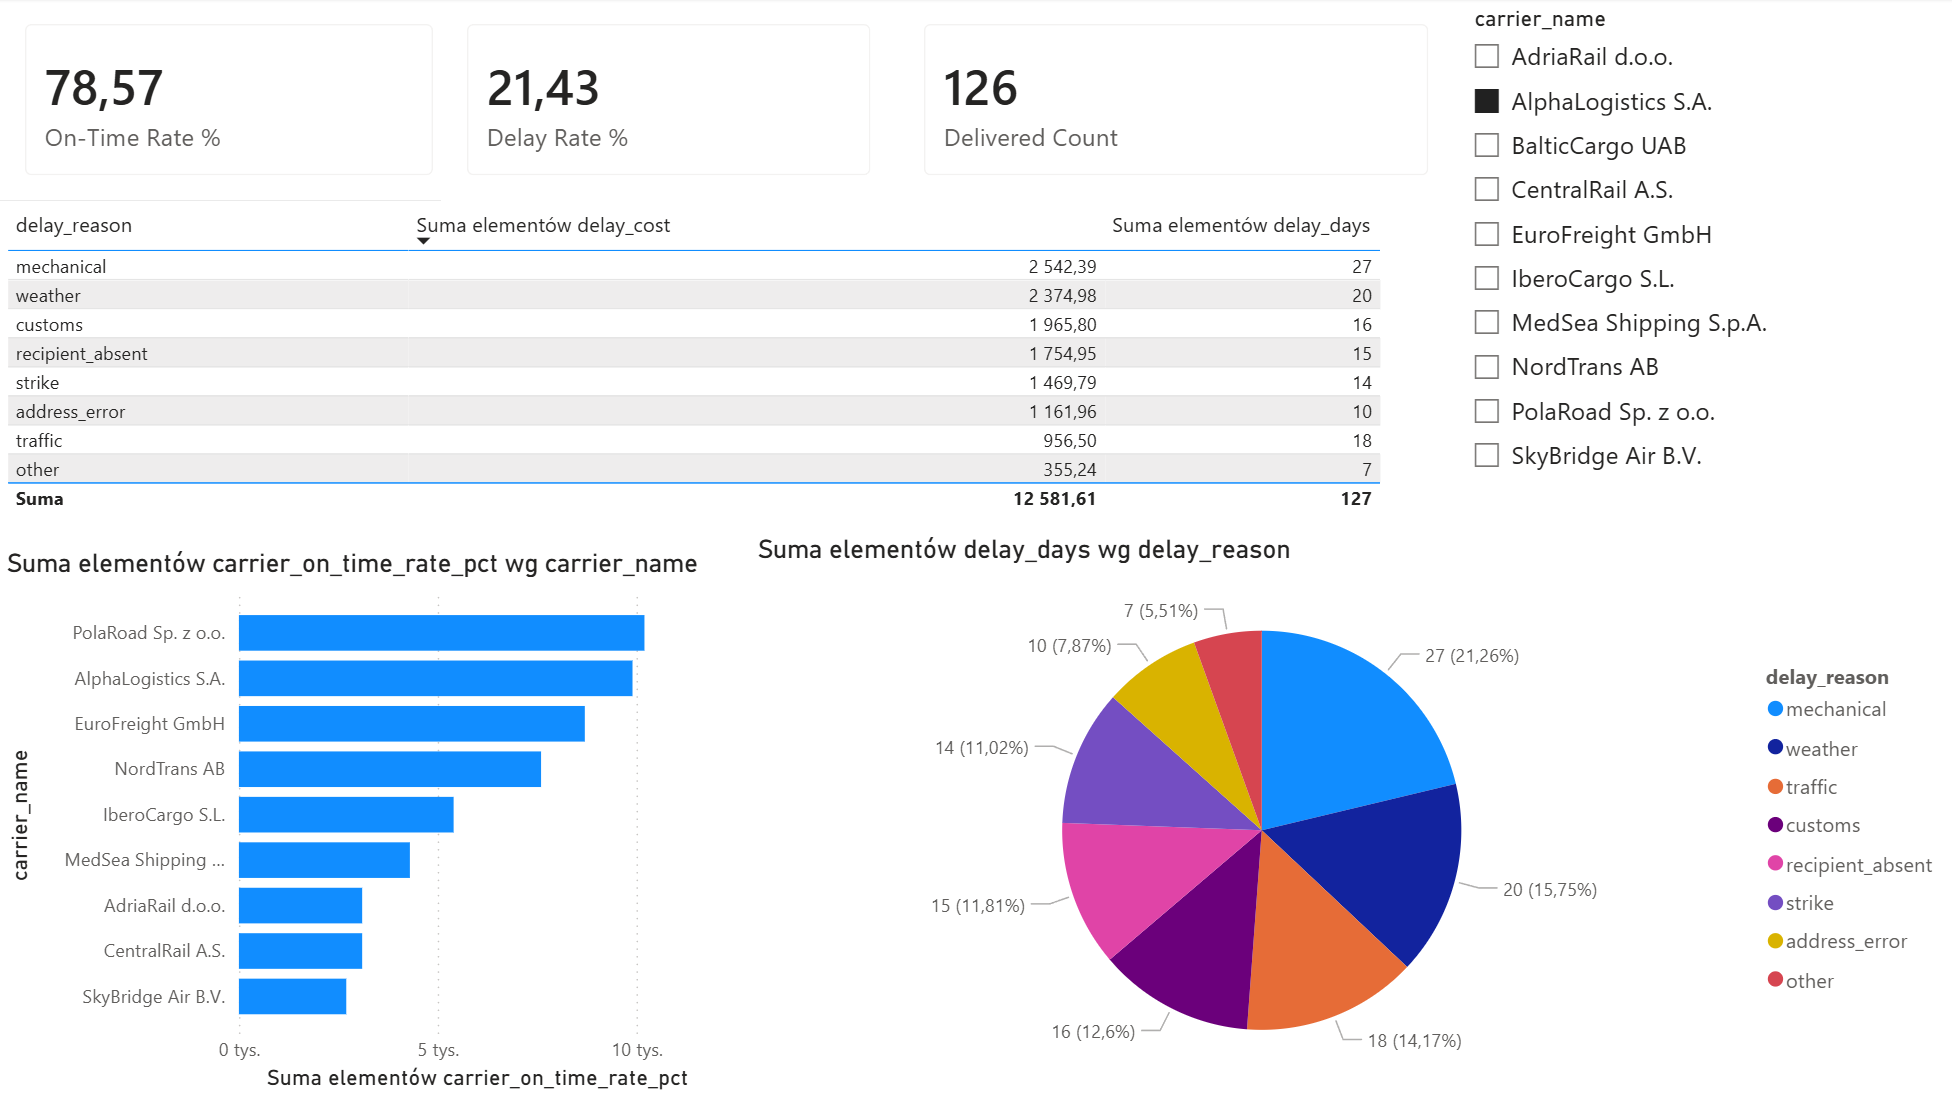

What the dashboard file says about the page in this screenshot:
{"tool":"powerbi","page":{"name":"Delivery Performance","canvas":[1280,720],"ordinal":1},"visuals":[{"type":"cardVisual","fields":{"Data":["_Measures.On-Time Rate %"]},"box":[0,0,301.1,133.1],"z":0},{"type":"cardVisual","fields":{"Data":["_Measures.Delay Rate %"]},"box":[289,0,299,133.1],"z":1000},{"type":"cardVisual","fields":{"Data":["_Measures.Delivered Count"]},"box":[588,0,364.5,133.1],"z":2000},{"type":"barChart","fields":{"Category":["vw_on_time_rate.carrier_name"],"Y":["Sum(vw_on_time_rate.carrier_on_time_rate_pct)"]},"box":[0,360.2,491.2,359.5],"z":3000},{"type":"tableEx","fields":{"Values":["delays.delay_reason","Sum(delays.delay_cost)","Sum(delays.delay_days)"]},"box":[0,133.1,952.5,212.9],"z":4000},{"type":"pieChart","fields":{"Category":["delays.delay_reason"],"Y":["Sum(delays.delay_days)"]},"box":[491.2,351,788.8,368.8],"z":5000},{"type":"slicer","fields":{"Values":["carriers.carrier_name"]},"box":[952.5,0,327.5,340.3],"z":5001}]}

Visuals, with their boxes in screenshot pixels (x1, y1, x2, y2), scaled from the page's 1280x720 canvas onto the 1952x1098 screenshot:
cardVisual - _Measures.On-Time Rate %: <box>0,0,459,203</box>
cardVisual - _Measures.Delay Rate %: <box>441,0,897,203</box>
cardVisual - _Measures.Delivered Count: <box>897,0,1453,203</box>
barChart - vw_on_time_rate.carrier_name x Sum(vw_on_time_rate.carrier_on_time_rate_pct): <box>0,549,749,1097</box>
tableEx - delays.delay_reason x Sum(delays.delay_cost): <box>0,203,1453,528</box>
pieChart - delays.delay_reason x Sum(delays.delay_days): <box>749,535,1951,1097</box>
slicer - carriers.carrier_name: <box>1453,0,1951,519</box>
